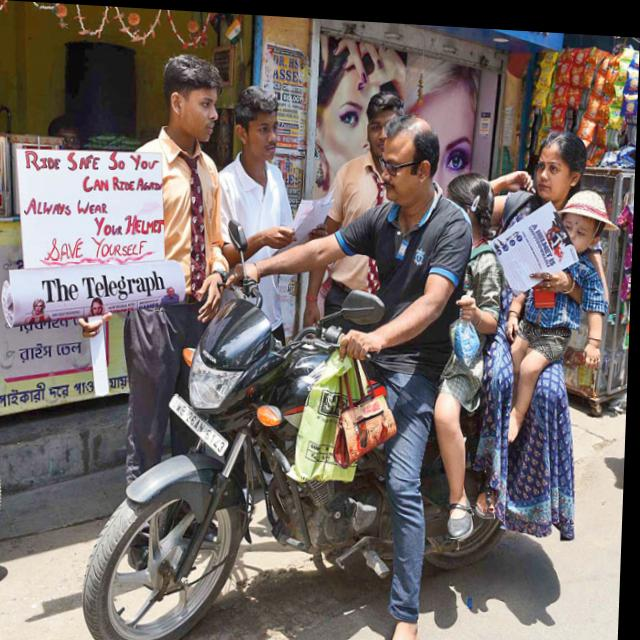without helmet: (378, 95, 444, 214), (533, 117, 595, 197)
